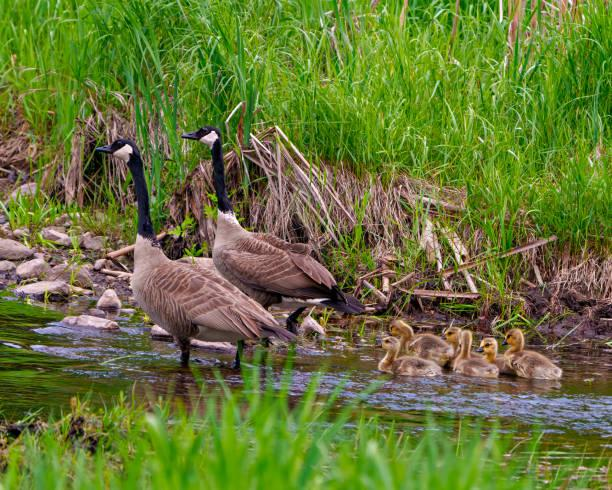Canadian-Goose: (95, 140, 285, 365), (182, 122, 347, 318), (372, 334, 437, 387), (503, 330, 564, 383), (457, 331, 501, 387), (392, 322, 449, 358), (477, 336, 501, 360), (441, 327, 465, 346)
